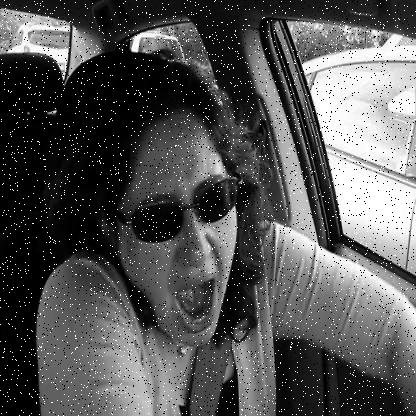seatbelt: (52, 42, 296, 416)
